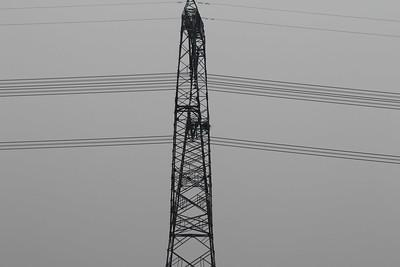power_tower: (161, 0, 222, 267)
